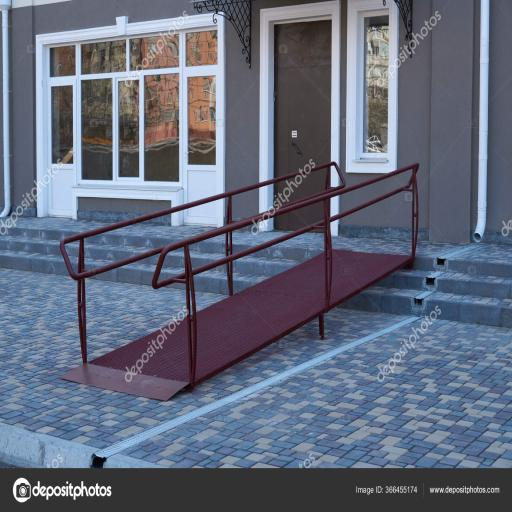ramp: (64, 248, 413, 400)
stairs: (2, 226, 512, 331)
